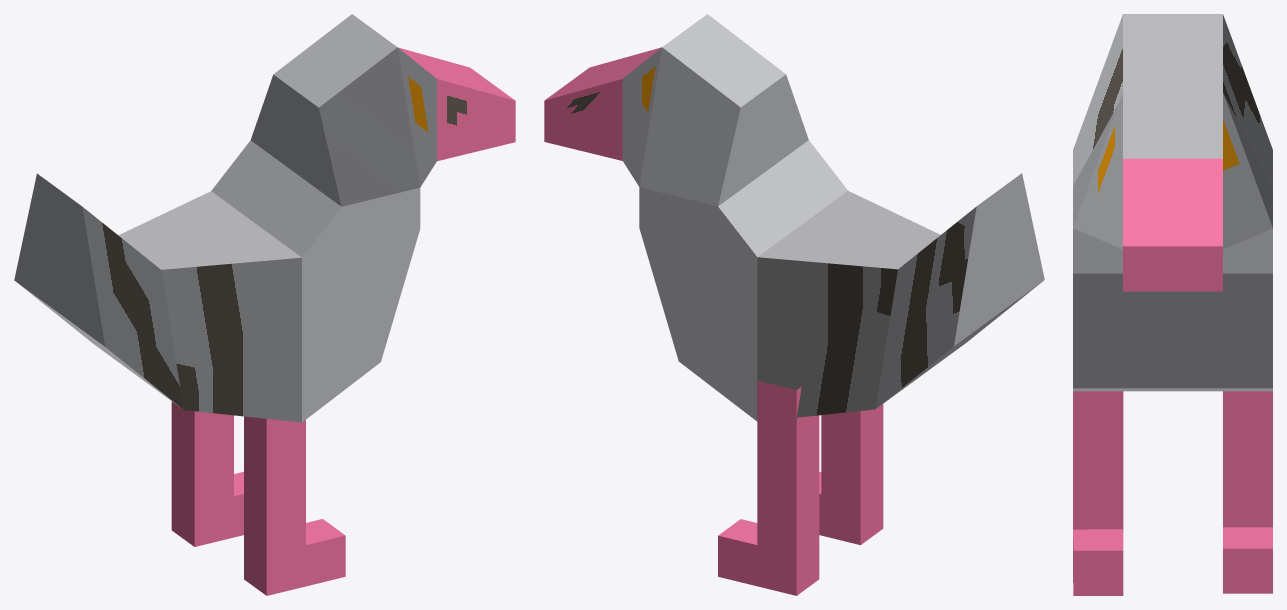
File: pigeon.gltf
3 views of the same model, side by side, from view 1: azimuth 30°, elevation 25°; view 2: azimuth 150°, elevation 25°; view 3: azimuth 270°, elevation 25° (orthographic). The views are drawn at different scales.
Visible parts, largest first — view 1: pigeon; view 2: pigeon; view 3: pigeon.
Part boxes in pixels (x1=…): pigeon: x1=14, y1=14, x2=515, y2=595; pigeon: x1=544, y1=14, x2=1044, y2=595; pigeon: x1=1073, y1=14, x2=1272, y2=595.
Size of the model in its own units: 2.75 by 3 by 1.
Materials: 1 (1 with a texture image).
